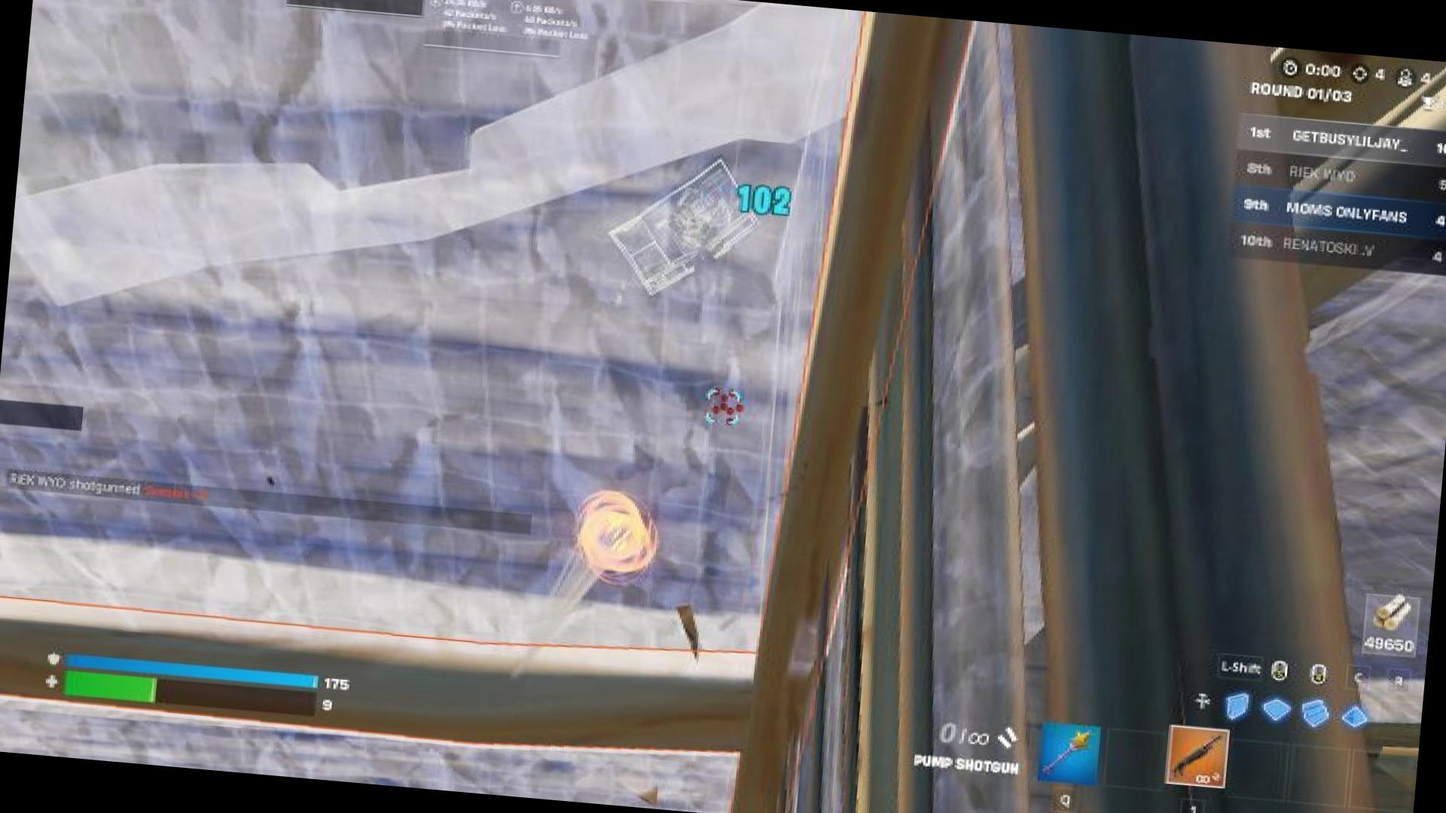player: (587, 194, 781, 602)
